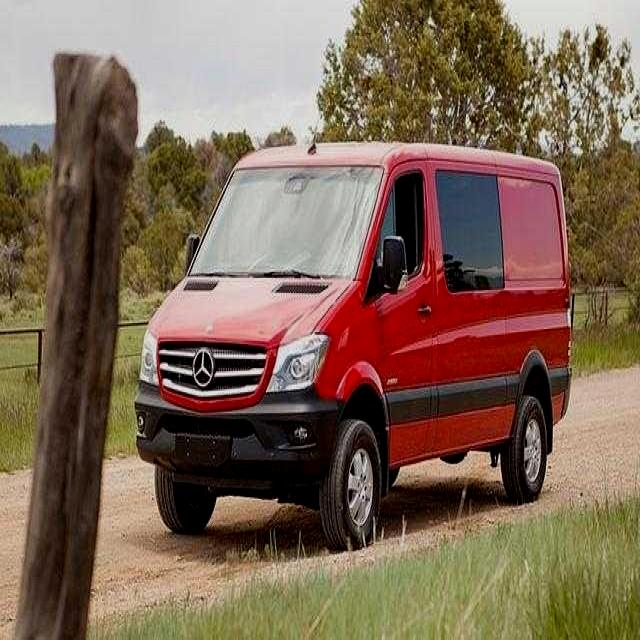Van: (135, 140, 570, 536)
